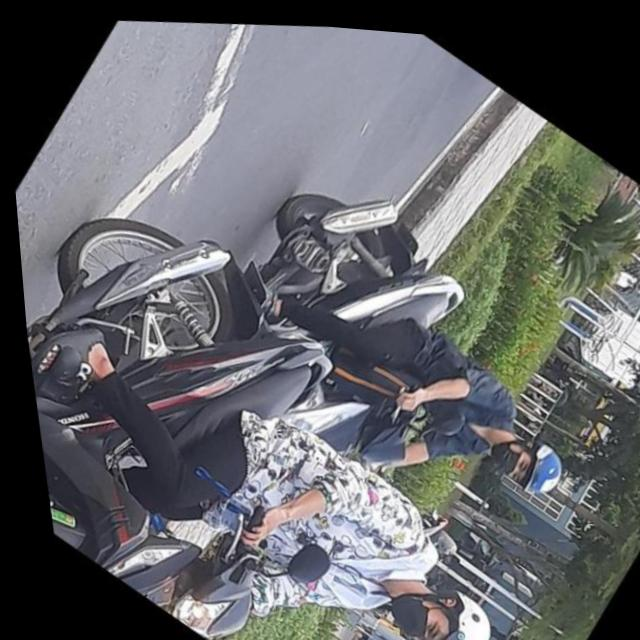WITH_HELMET: (396, 569, 510, 640), (491, 416, 574, 505)
